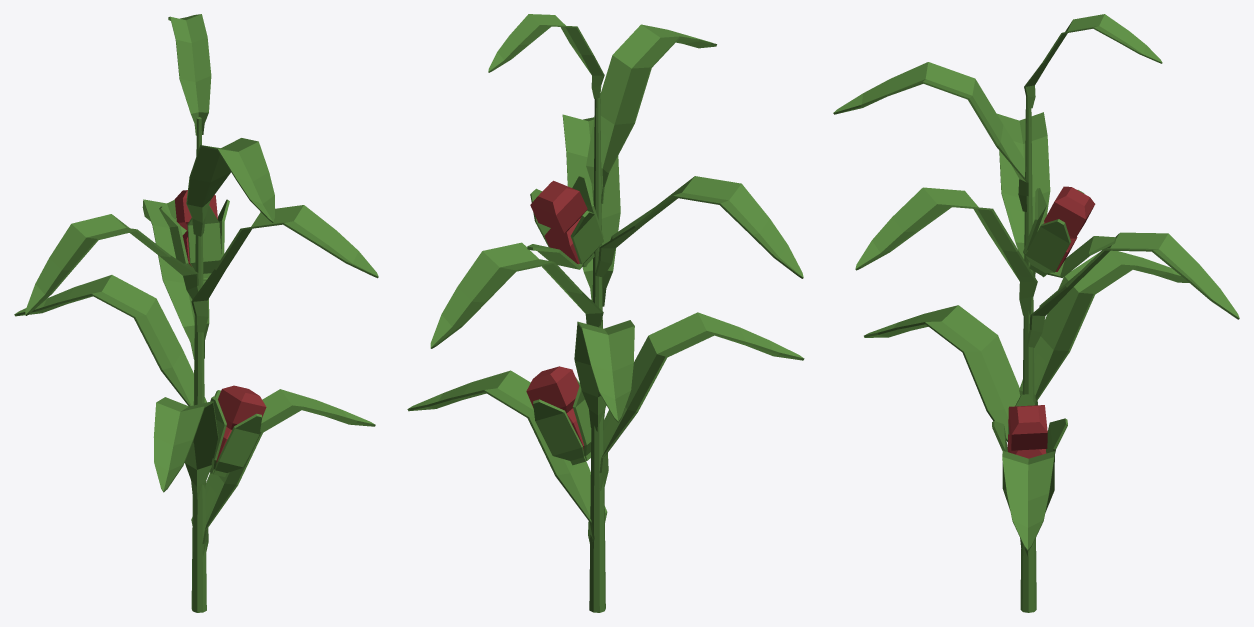
The model's file is Corn.fbx.
3 views of the same model, side by side, from view 1: azimuth 30°, elevation 25°; view 2: azimuth 150°, elevation 25°; view 3: azimuth 270°, elevation 25° (orthographic). The views are drawn at different scales.
Visible parts, largest first — view 1: Cube.004, Cube.006, Cube.007, Cube.005, Cube.008, Cube.010, Cube.002, Cube.009, Cube, Cube.014, Cube.003; view 2: Cube.007, Cube.006, Cube.003, Cube.004, Cube.014, Cube.005, Cube.010, Cube.002, Cube, Cube.008, Cube.009; view 3: Cube.006, Cube.004, Cube.008, Cube.014, Cube.007, Cube.003, Cube.002, Cube.005, Cube.010, Cube, Cube.009.
Boxes of the visible parts, x1,y1,x2,y2 form: Cube.004: [14, 275, 206, 406]; Cube.006: [153, 397, 218, 499]; Cube.007: [186, 138, 274, 236]; Cube.005: [25, 214, 199, 315]; Cube.008: [191, 205, 378, 332]; Cube.010: [209, 385, 266, 476]; Cube.002: [191, 389, 375, 555]; Cube.009: [168, 14, 211, 135]; Cube: [191, 117, 206, 612]; Cube.014: [159, 190, 229, 280]; Cube.003: [142, 199, 209, 359]; Cube.007: [586, 24, 716, 203]; Cube.006: [599, 312, 804, 490]; Cube.003: [430, 242, 603, 348]; Cube.004: [574, 320, 634, 431]; Cube.014: [527, 176, 603, 269]; Cube.005: [595, 176, 803, 278]; Cube.010: [526, 366, 591, 465]; Cube.002: [407, 370, 607, 543]; Cube: [589, 98, 605, 612]; Cube.008: [562, 114, 620, 306]; Cube.009: [488, 14, 604, 98]; Cube.006: [864, 305, 1020, 442]; Cube.004: [1019, 250, 1188, 405]; Cube.008: [855, 187, 1037, 315]; Cube.014: [1023, 186, 1115, 277]; Cube.007: [833, 62, 1028, 212]; Cube.003: [1026, 232, 1239, 347]; Cube.002: [1002, 450, 1054, 556]; Cube.005: [997, 112, 1050, 276]; Cube.010: [992, 394, 1067, 458]; Cube: [1020, 98, 1036, 612]; Cube.009: [1024, 14, 1162, 108].
Bounding box in the file's own units: 161 × 242 × 149.
